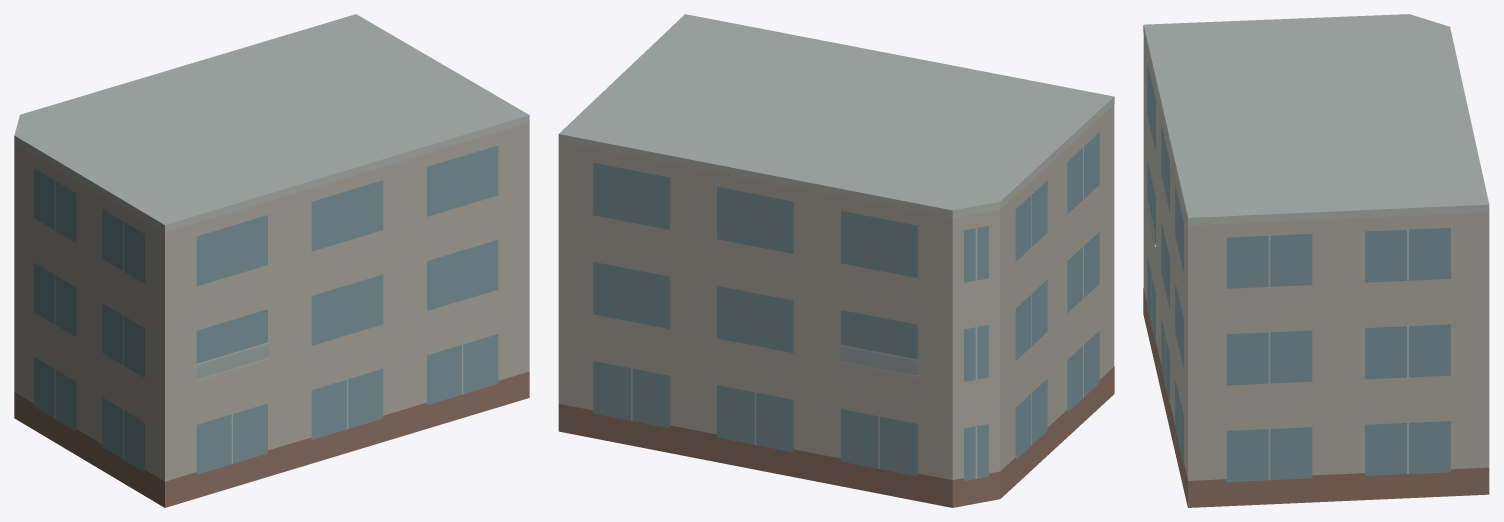
The model's file is survey-upis-32569409.glb.
The picture shows the model from 3 angles, left to right: view 1: azimuth 30°, elevation 25°; view 2: azimuth 150°, elevation 25°; view 3: azimuth 270°, elevation 25°; orthographic projection. The views are drawn at different scales.
Parts seen in each view (by area): view 1: survey-upis-32569409.tmp; view 2: survey-upis-32569409.tmp; view 3: survey-upis-32569409.tmp.
Part boxes in pixels (<box>): survey-upis-32569409.tmp: <box>14,14,529,507</box>; survey-upis-32569409.tmp: <box>558,14,1114,507</box>; survey-upis-32569409.tmp: <box>1143,14,1489,507</box>.
Bounding box in the file's own units: 13.81 × 9.15 × 9.9.
